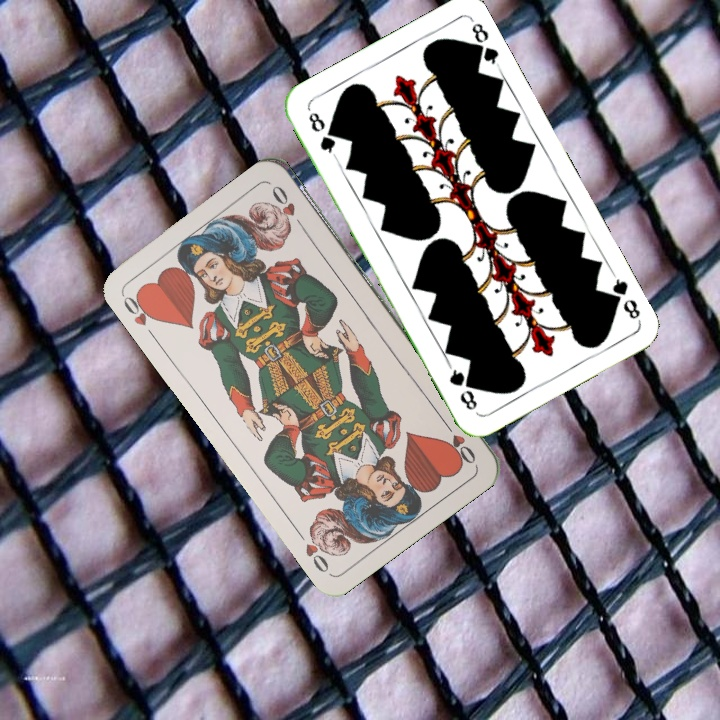G8: (603, 269, 643, 323), (304, 108, 339, 160)
HO: (118, 287, 162, 342), (438, 416, 478, 467)
